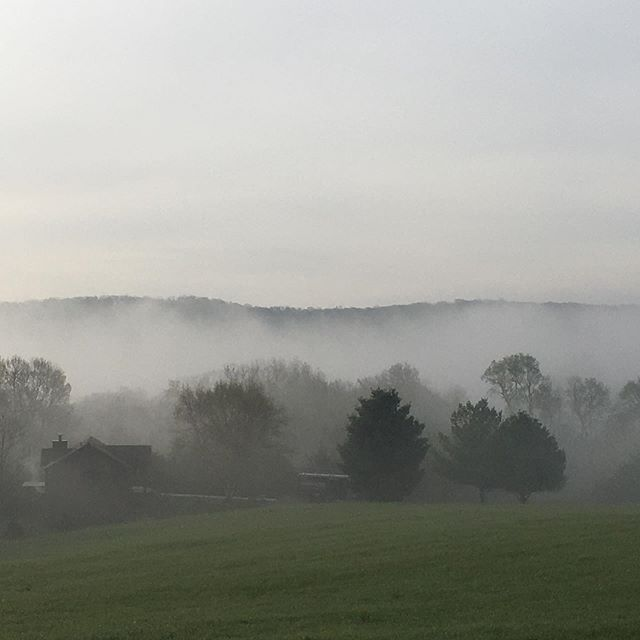building: (34, 427, 151, 522)
grass: (1, 497, 640, 640)
sky: (4, 1, 640, 289)
vegetation: (1, 294, 602, 499)
